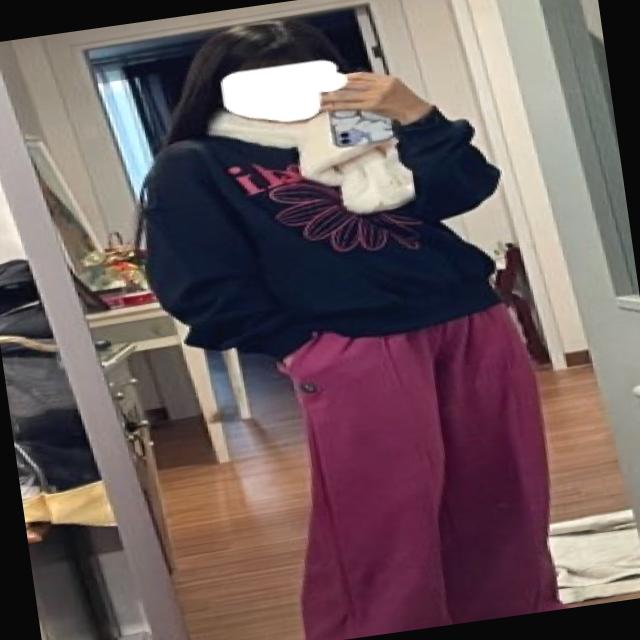mtm: (128, 91, 522, 377)
skirt: (257, 293, 570, 640)
